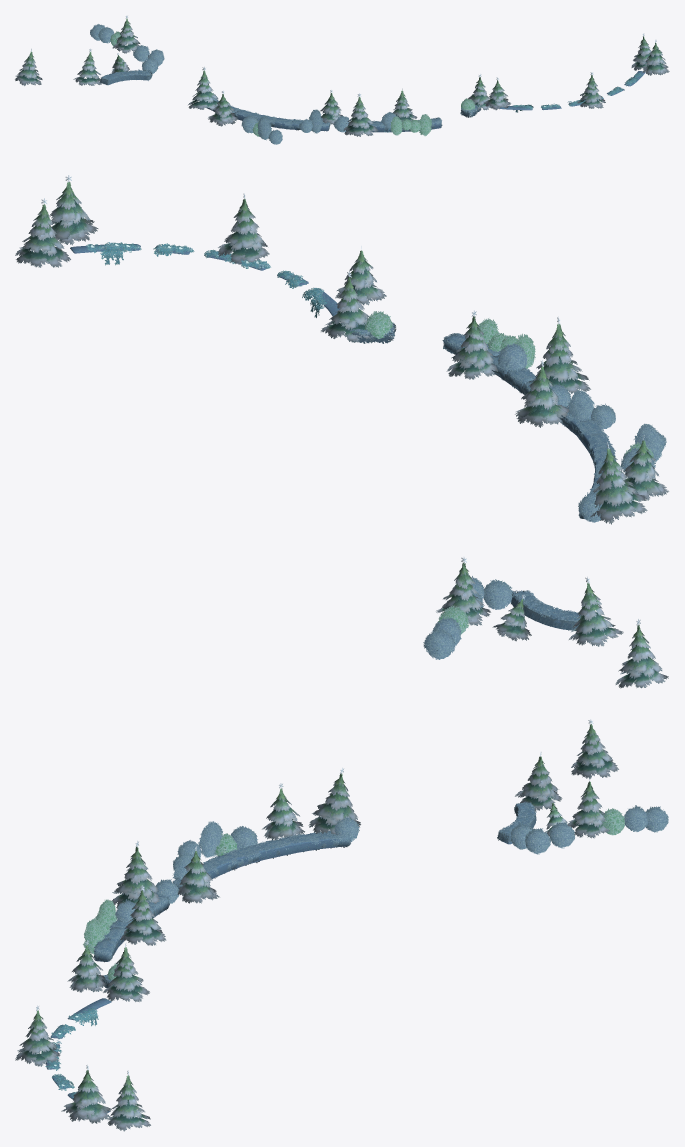
File: pref_sm_beach_bk_winter_pointmol_longplant_R_lv2.fbx
The picture shows the model from 3 angles, top to bottom: view 1: azimuth 30°, elevation 25°; view 2: azimuth 150°, elevation 25°; view 3: azimuth 270°, elevation 25°; orthographic projection. The views are drawn at different scales.
Parts seen in each view (by area): view 1: sm_beach_bk_winter_pointmol_longplant_R03_lv2, sm_beach_bk_winter_pointmol_longplant_T01_lv2, sm_beach_bk_winter_pointmol_longplant_R04_lv2, sm_beach_bk_winter_pointmol_longplant_R02_lv2, sm_beach_bk_winter_pointmol_longplant_R01_lv2; view 2: sm_beach_bk_winter_pointmol_longplant_T01_lv2, sm_beach_bk_winter_pointmol_longplant_R03_lv2, sm_beach_bk_winter_pointmol_longplant_R04_lv2, sm_beach_bk_winter_pointmol_longplant_R01_lv2, sm_beach_bk_winter_pointmol_longplant_R02_lv2; view 3: sm_beach_bk_winter_pointmol_longplant_R03_lv2, sm_beach_bk_winter_pointmol_longplant_T01_lv2, sm_beach_bk_winter_pointmol_longplant_R04_lv2, sm_beach_bk_winter_pointmol_longplant_R02_lv2, sm_beach_bk_winter_pointmol_longplant_R01_lv2.
Part boxes in pixels (x1,y1,x2,y2): sm_beach_bk_winter_pointmol_longplant_R03_lv2: [15, 15, 164, 85]; sm_beach_bk_winter_pointmol_longplant_T01_lv2: [468, 33, 669, 112]; sm_beach_bk_winter_pointmol_longplant_R04_lv2: [188, 66, 417, 136]; sm_beach_bk_winter_pointmol_longplant_R02_lv2: [203, 93, 330, 144]; sm_beach_bk_winter_pointmol_longplant_R01_lv2: [334, 98, 481, 136]; sm_beach_bk_winter_pointmol_longplant_T01_lv2: [15, 175, 386, 342]; sm_beach_bk_winter_pointmol_longplant_R03_lv2: [423, 557, 668, 688]; sm_beach_bk_winter_pointmol_longplant_R04_lv2: [446, 310, 668, 524]; sm_beach_bk_winter_pointmol_longplant_R01_lv2: [349, 311, 571, 407]; sm_beach_bk_winter_pointmol_longplant_R02_lv2: [558, 390, 666, 522]; sm_beach_bk_winter_pointmol_longplant_R03_lv2: [497, 719, 668, 854]; sm_beach_bk_winter_pointmol_longplant_T01_lv2: [15, 940, 150, 1131]; sm_beach_bk_winter_pointmol_longplant_R04_lv2: [112, 767, 360, 945]; sm_beach_bk_winter_pointmol_longplant_R02_lv2: [172, 816, 359, 894]; sm_beach_bk_winter_pointmol_longplant_R01_lv2: [83, 879, 179, 992].
Size of the model in its own units: 114 by 11.58 by 81.8.
Materials: 1 (1 with a texture image).
